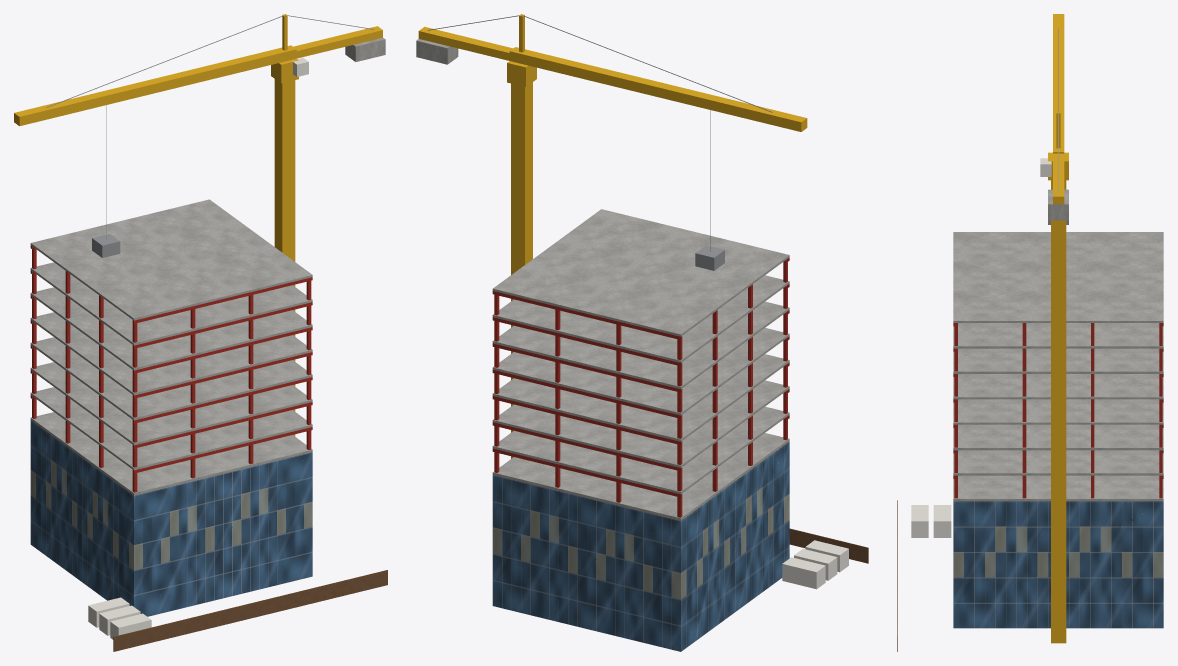
The model's file is 095_construction_site.glb.
The picture shows the model from 3 angles, left to right: view 1: azimuth 30°, elevation 25°; view 2: azimuth 150°, elevation 25°; view 3: azimuth 270°, elevation 25°; orthographic projection. The views are drawn at different scales.
Parts seen in each view (by area): view 1: 095_construction_site; view 2: 095_construction_site; view 3: 095_construction_site.
Part boxes in pixels (x1=…): 095_construction_site: x1=14, y1=14, x2=387, y2=651; 095_construction_site: x1=416, y1=14, x2=868, y2=651; 095_construction_site: x1=897, y1=14, x2=1163, y2=651.
Bounding box in the file's own units: 61 × 83.04 × 38.
8 materials, 4 textured.
